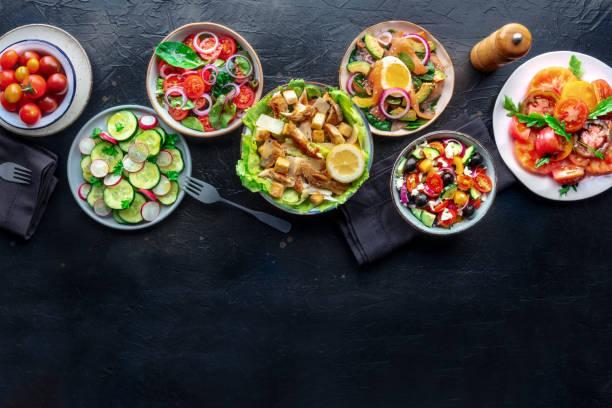Braised Crucian Carp: (492, 51, 610, 202), (239, 82, 369, 216), (67, 104, 188, 230), (339, 20, 455, 138), (146, 22, 262, 140), (390, 130, 498, 235), (0, 23, 92, 138)
